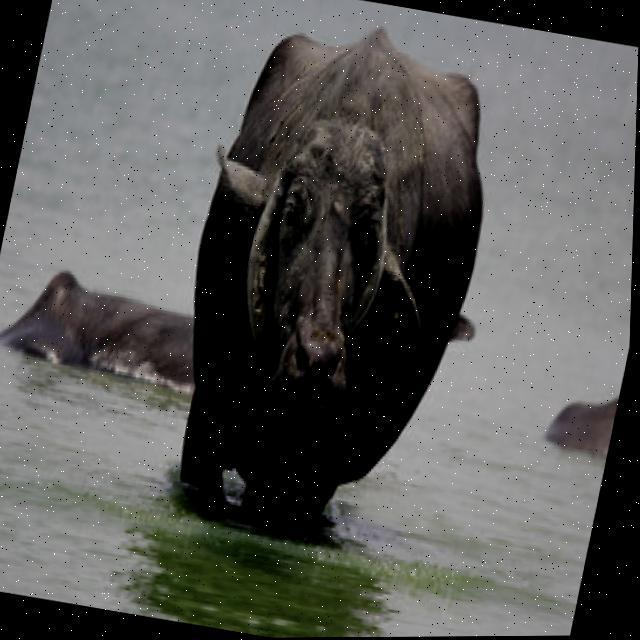Buffalo: (139, 0, 524, 553)
